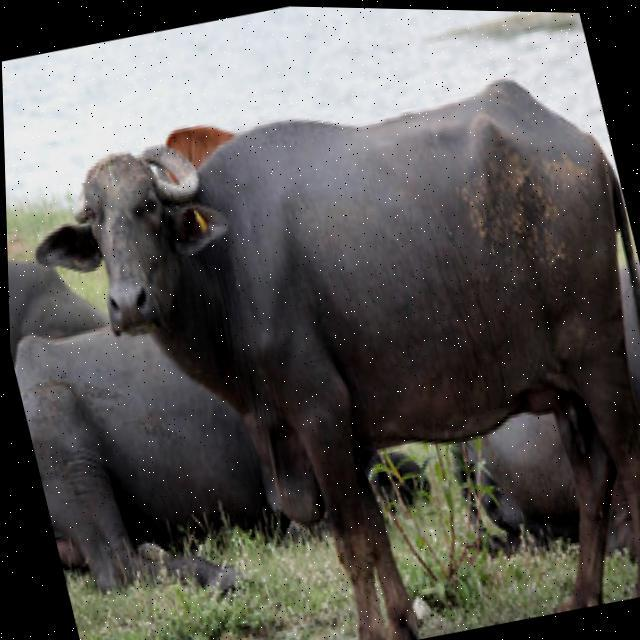Buffalo: (5, 35, 640, 640)
